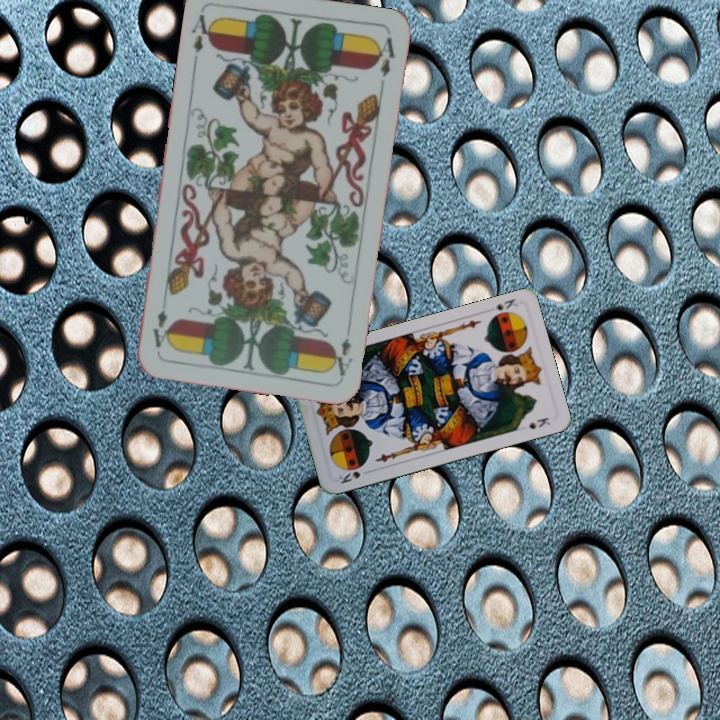EA: (327, 320, 355, 379), (188, 10, 217, 56)
SK: (334, 462, 366, 486), (491, 294, 519, 313)
